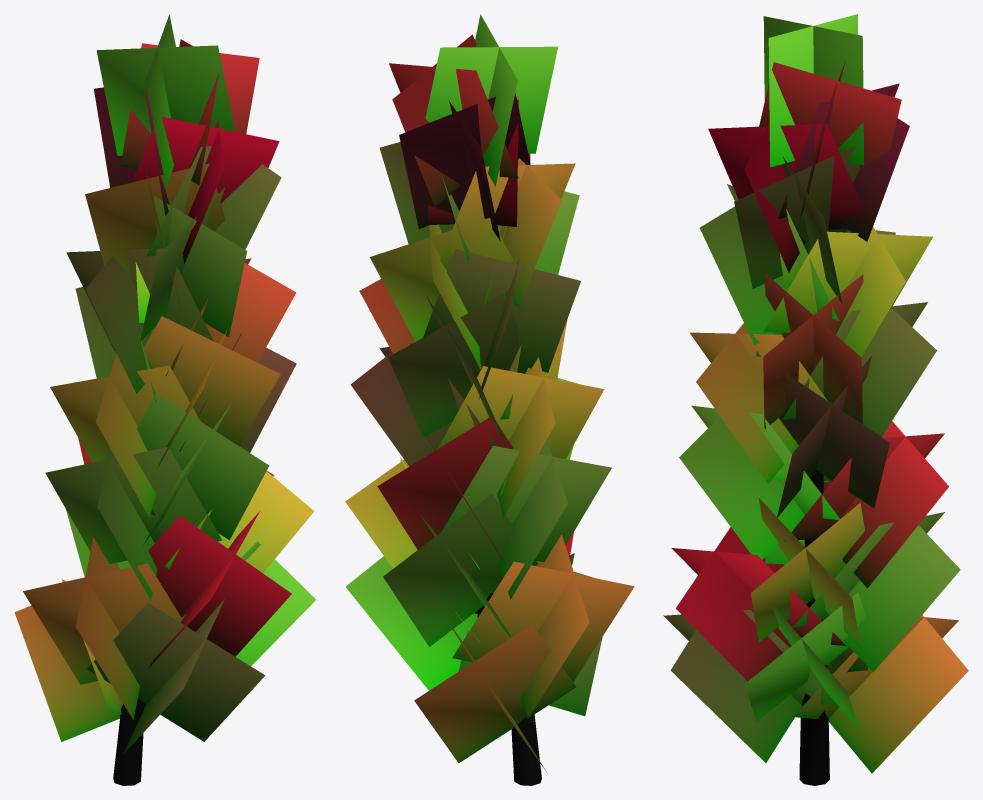
Rendered from Tree_8.fbx.
3 renders of one model, left to right at view 1: azimuth 30°, elevation 25°; view 2: azimuth 150°, elevation 25°; view 3: azimuth 270°, elevation 25°, orthographic. The views are drawn at different scales.
Visible parts, largest first — view 1: Tree_8; view 2: Tree_8; view 3: Tree_8.
Part boxes in pixels (x1=…): Tree_8: x1=14, y1=14, x2=316, y2=785; Tree_8: x1=345, y1=14, x2=634, y2=785; Tree_8: x1=663, y1=14, x2=968, y2=785.
Bounding box in the file's own units: 693 × 1944 × 693.
